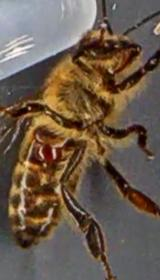varroa_mite: (30, 132, 64, 168)
